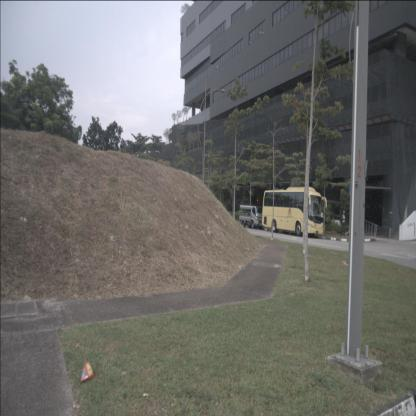human-pedestrian-adult: (341, 210, 346, 236)
vehicle-bus-rigid: (262, 186, 324, 238)
vehicle-truck: (239, 204, 264, 230)
